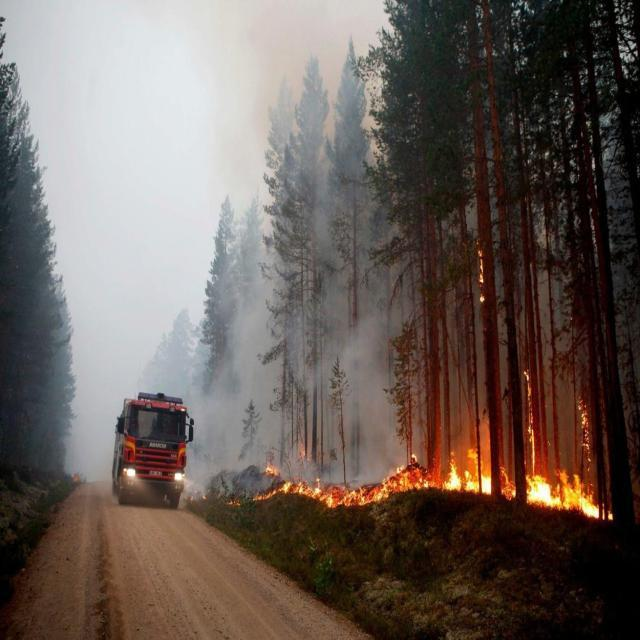Fire: (225, 364, 614, 526), (476, 245, 487, 302)
Smoke: (184, 1, 424, 500)
